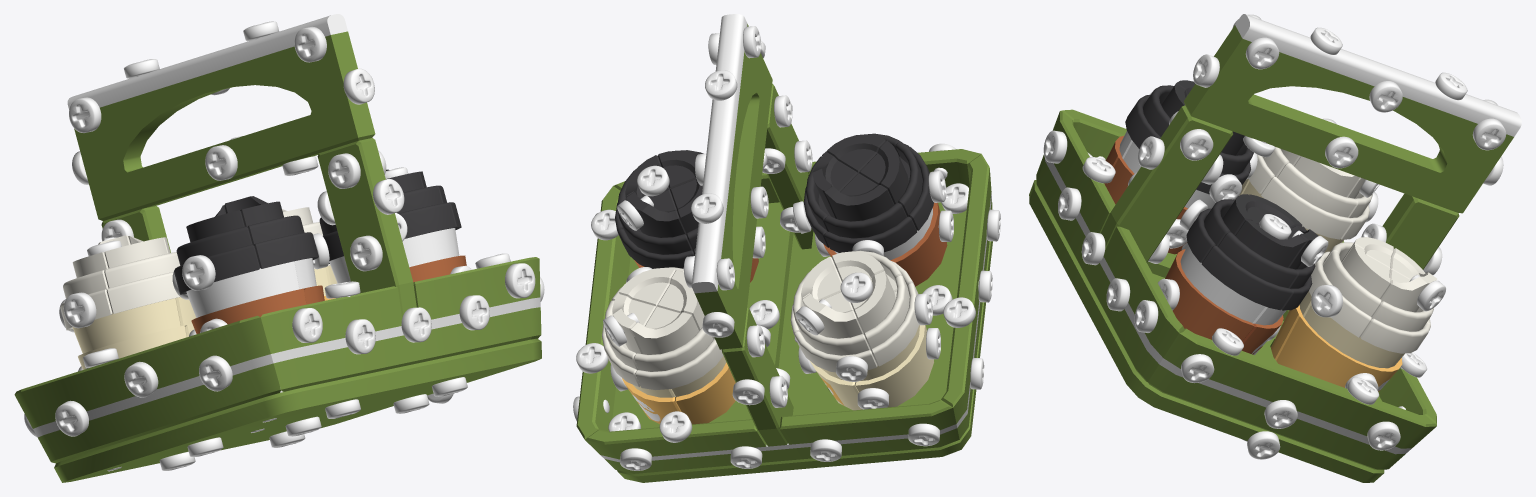
Rendered from CoffeeCup_GroupD.fbx.
3 views of the same model, side by side, from view 1: azimuth 30°, elevation 25°; view 2: azimuth 150°, elevation 25°; view 3: azimuth 270°, elevation 25° (orthographic). The views are drawn at different scales.
Visible parts, largest first — view 1: CoffeeCup_001, CoffeeCup_005, CoffeeCup_027, Screw (×17), CoffeeCup_032, CoffeeCup_023, CoffeeCup_002, CoffeeCup_006, CoffeeCup_030, CoffeeCup_010, CoffeeCup_012, CoffeeCup_014 (+5 smaller); view 2: Screw (×34), CoffeeCup_001, CoffeeCup_028, CoffeeCup_032, CoffeeCup_027, CoffeeCup_019, CoffeeCup_004, CoffeeCup_011, CoffeeCup_025, CoffeeCup_008, CoffeeCup_017, CoffeeCup_009 (+22 smaller); view 3: CoffeeCup_001, Screw (×26), CoffeeCup_004, CoffeeCup_005, CoffeeCup_032, CoffeeCup_023, CoffeeCup_015, CoffeeCup_036, CoffeeCup_007, CoffeeCup_029, CoffeeCup_020, CoffeeCup_021 (+15 smaller).
Part boxes in pixels (x1=…): CoffeeCup_001: x1=67, y1=14, x2=375, y2=220; CoffeeCup_005: x1=260, y1=257, x2=541, y2=391; CoffeeCup_027: x1=14, y1=315, x2=280, y2=463; Screw (×17): x1=55, y1=26, x2=535, y2=436; CoffeeCup_032: x1=54, y1=338, x2=541, y2=482; CoffeeCup_023: x1=317, y1=138, x2=416, y2=318; CoffeeCup_002: x1=186, y1=261, x2=306, y2=392; CoffeeCup_006: x1=104, y1=237, x2=180, y2=313; CoffeeCup_030: x1=72, y1=298, x2=186, y2=369; CoffeeCup_010: x1=175, y1=210, x2=259, y2=293; CoffeeCup_012: x1=240, y1=201, x2=318, y2=268; CoffeeCup_014: x1=386, y1=172, x2=455, y2=238; Screw (×34): x1=576, y1=26, x2=975, y2=470; CoffeeCup_001: x1=691, y1=14, x2=772, y2=349; CoffeeCup_028: x1=585, y1=400, x2=959, y2=473; CoffeeCup_032: x1=617, y1=234, x2=992, y2=482; CoffeeCup_027: x1=941, y1=154, x2=992, y2=439; CoffeeCup_019: x1=631, y1=306, x2=723, y2=389; CoffeeCup_004: x1=576, y1=186, x2=630, y2=439; CoffeeCup_011: x1=824, y1=173, x2=916, y2=252; CoffeeCup_025: x1=709, y1=202, x2=793, y2=422; CoffeeCup_008: x1=850, y1=271, x2=919, y2=366; CoffeeCup_017: x1=617, y1=189, x2=694, y2=268; CoffeeCup_009: x1=794, y1=292, x2=877, y2=372; CoffeeCup_001: x1=1184, y1=14, x2=1521, y2=213; Screw (×26): x1=1043, y1=27, x2=1506, y2=459; CoffeeCup_004: x1=1148, y1=328, x2=1436, y2=469; CoffeeCup_005: x1=1036, y1=111, x2=1183, y2=382; CoffeeCup_032: x1=1029, y1=179, x2=1384, y2=482; CoffeeCup_023: x1=1100, y1=105, x2=1233, y2=262; CoffeeCup_015: x1=1201, y1=220, x2=1306, y2=310; CoffeeCup_036: x1=1276, y1=304, x2=1404, y2=391; CoffeeCup_007: x1=1261, y1=156, x2=1359, y2=239; CoffeeCup_029: x1=1165, y1=245, x2=1265, y2=341; CoffeeCup_020: x1=1309, y1=244, x2=1390, y2=337; CoffeeCup_021: x1=1361, y1=269, x2=1436, y2=353.
Size of the model in its own units: 10.73 by 10.57 by 10.66.
Materials: 3 (2 with a texture image).
